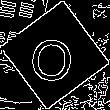O_N: (30, 27, 80, 83)
